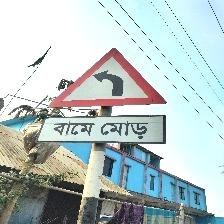Left-Turn: (43, 48, 170, 144)
